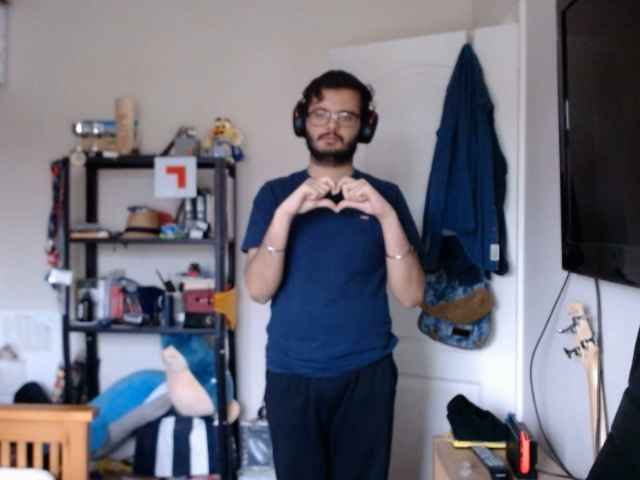Heart: (303, 169, 369, 221)
